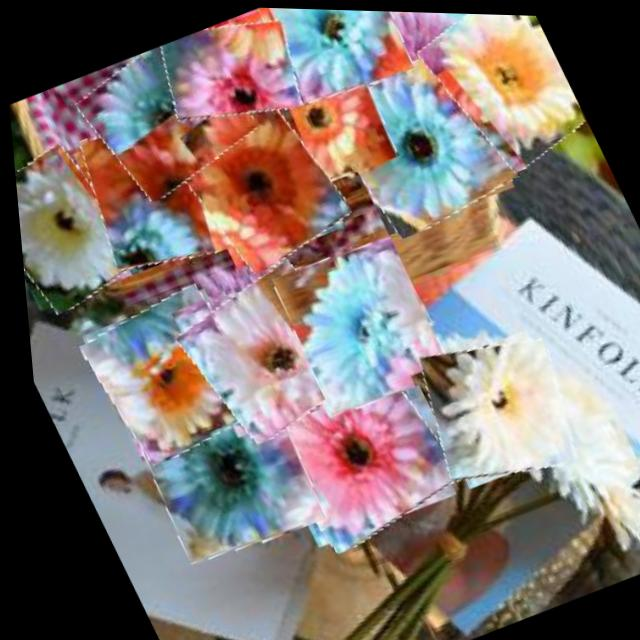Flower: (228, 334, 463, 559), (112, 363, 326, 570), (312, 40, 523, 243), (160, 253, 372, 448), (67, 279, 269, 471), (160, 83, 355, 278), (65, 23, 268, 206), (261, 228, 454, 418), (60, 99, 252, 284), (394, 315, 588, 498), (217, 28, 402, 201), (412, 10, 595, 180), (10, 138, 143, 320), (144, 3, 316, 143), (253, 6, 419, 111)
